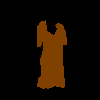vestito: (36, 19, 67, 88)
